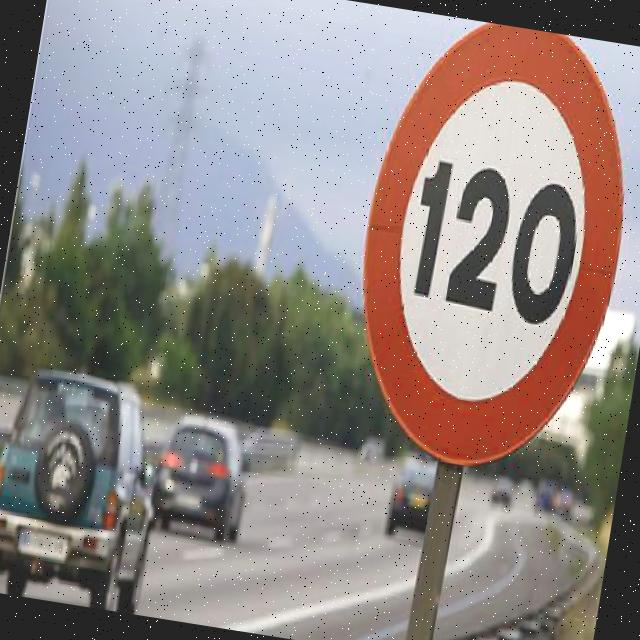Ograniczenie predkosci do 120: (338, 22, 640, 472)
